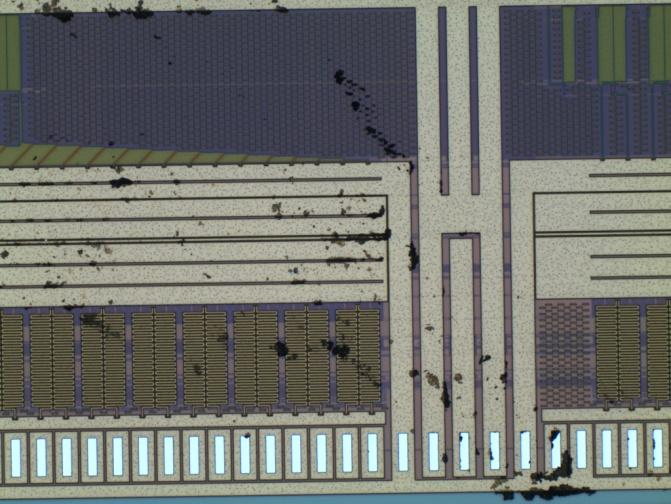PO CONTAMINATION: (1, 1, 663, 503)
